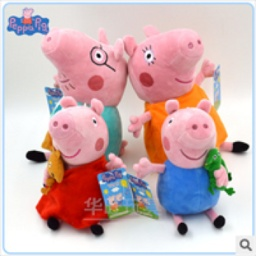Peppa: (43, 94, 127, 234)
